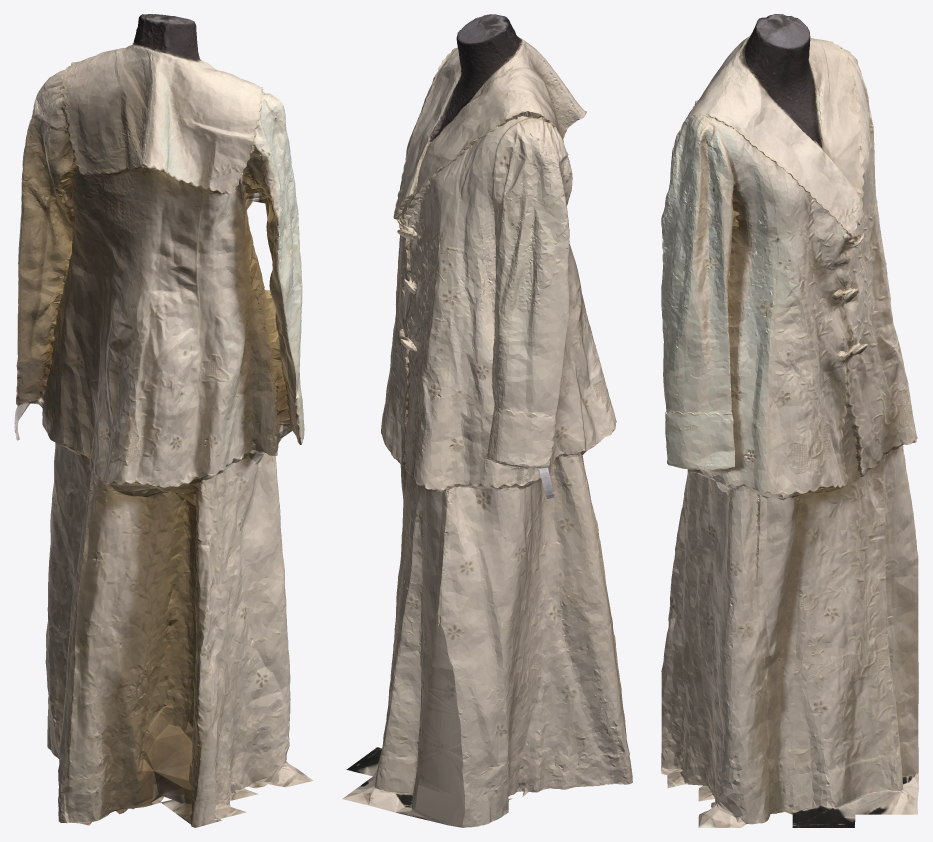
File: testdress2.glb
The picture shows the model from 3 angles, left to right: view 1: azimuth 30°, elevation 25°; view 2: azimuth 150°, elevation 25°; view 3: azimuth 270°, elevation 25°; orthographic projection. The views are drawn at different scales.
Parts seen in each view (by area): view 1: TestDress2; view 2: TestDress2; view 3: TestDress2.
Part boxes in pixels (x1,y1,x2,y2): TestDress2: (14, 14, 313, 827); TestDress2: (342, 14, 632, 827); TestDress2: (661, 14, 918, 827).
Size of the model in its own units: 7.89 by 24.65 by 7.62.
1 material, 1 textured.
